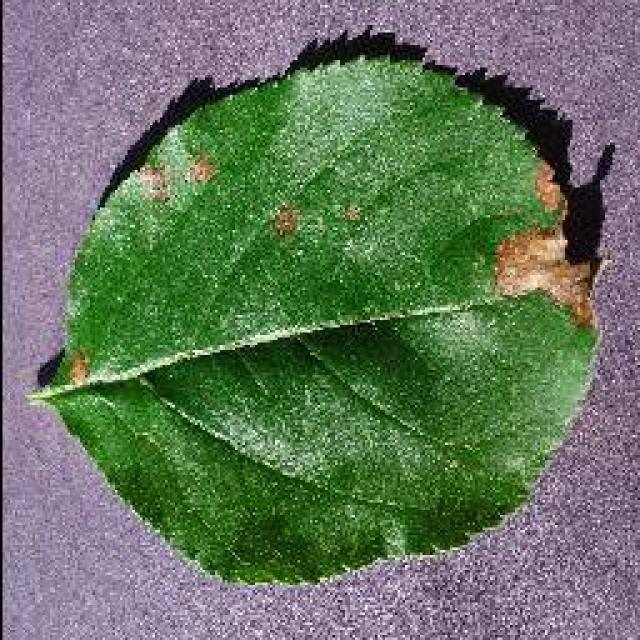Black_rot: (25, 28, 605, 588)
